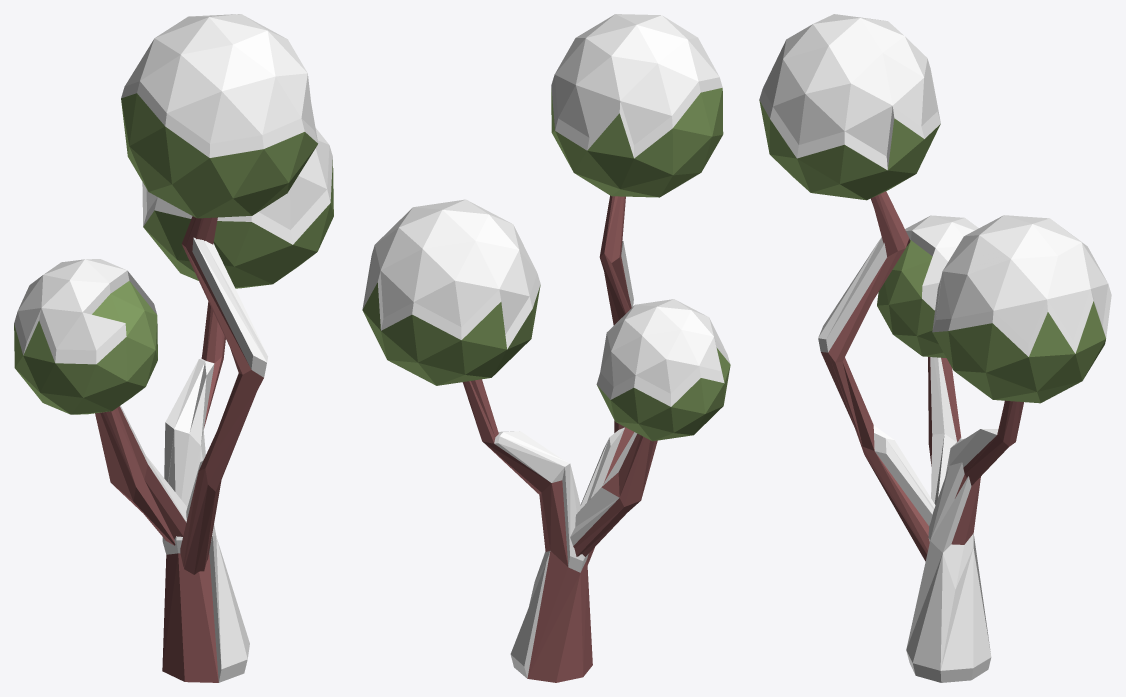
Rendered from Poplar Tree_3 Snow.fbx.
3 views of the same model, side by side, from view 1: azimuth 30°, elevation 25°; view 2: azimuth 150°, elevation 25°; view 3: azimuth 270°, elevation 25° (orthographic). The views are drawn at different scales.
Parts seen in each view (by area): view 1: Poplar Tree_3 Snow; view 2: Poplar Tree_3 Snow; view 3: Poplar Tree_3 Snow.
Part boxes in pixels (x1,y1,x2,y2): Poplar Tree_3 Snow: (14, 14, 333, 682); Poplar Tree_3 Snow: (362, 14, 730, 682); Poplar Tree_3 Snow: (759, 14, 1111, 682).
Size of the model in its own units: 3.65 by 6.97 by 3.54.
